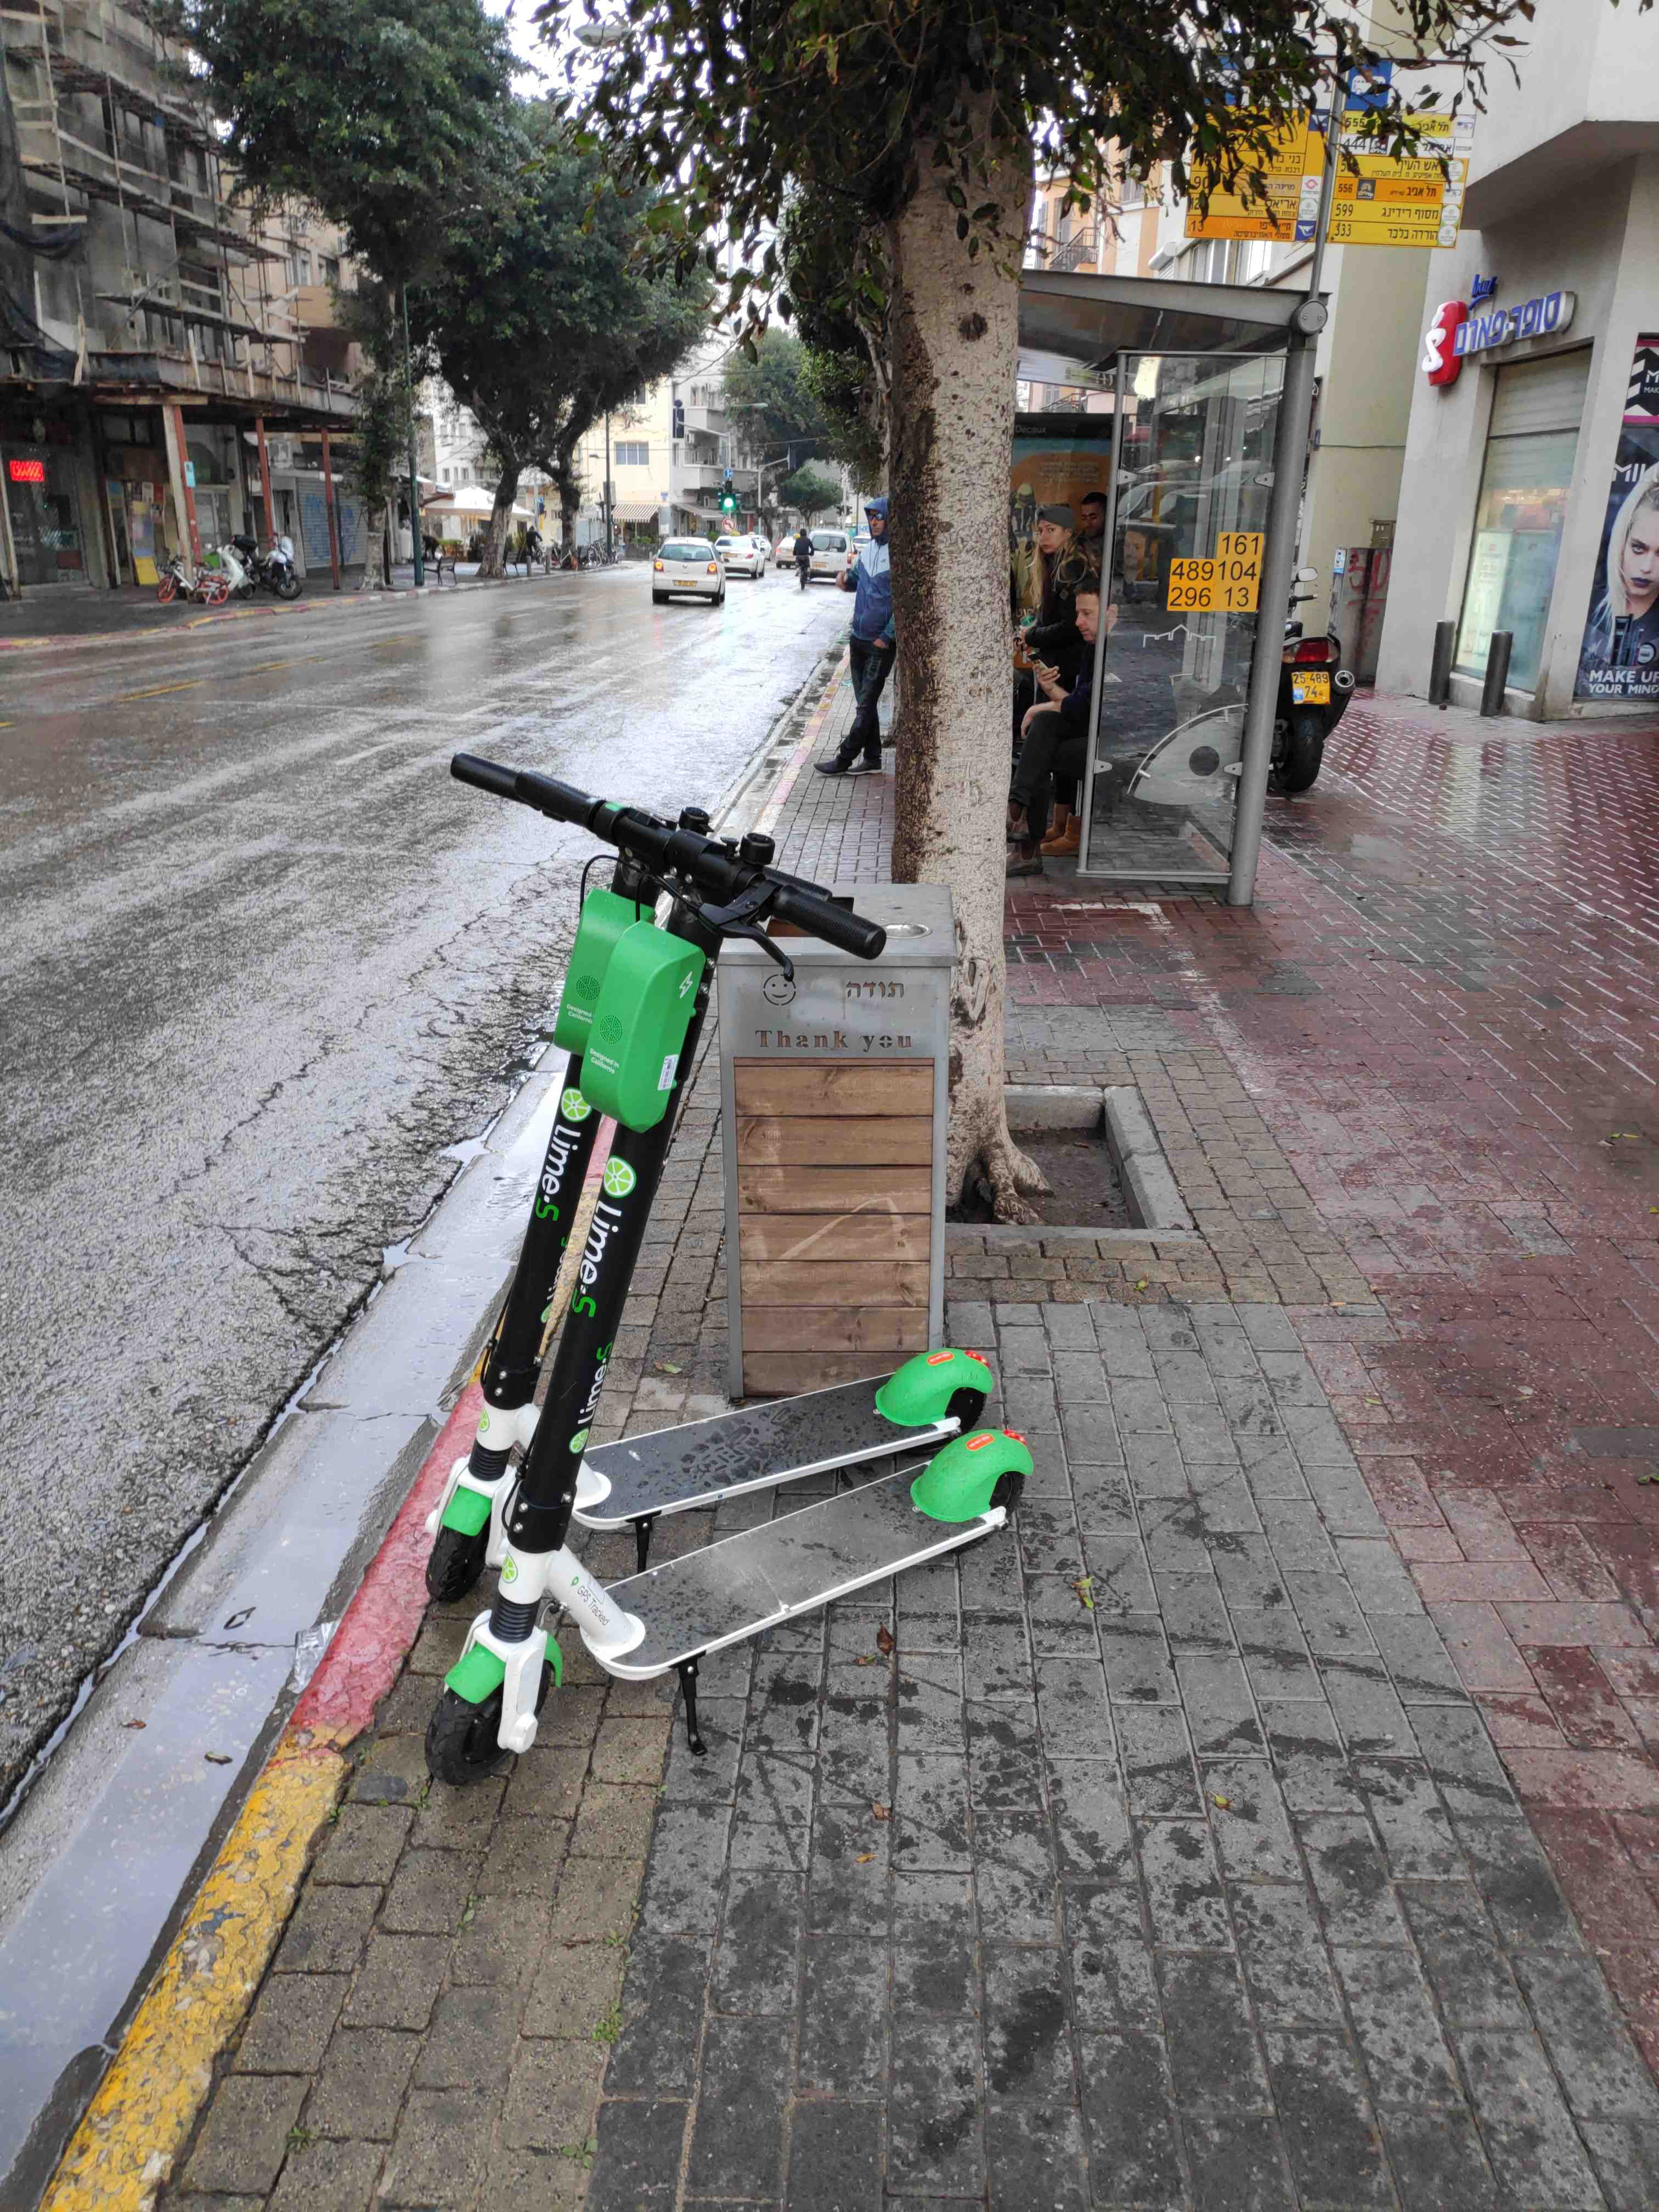too close: (314, 1397, 591, 1639)
